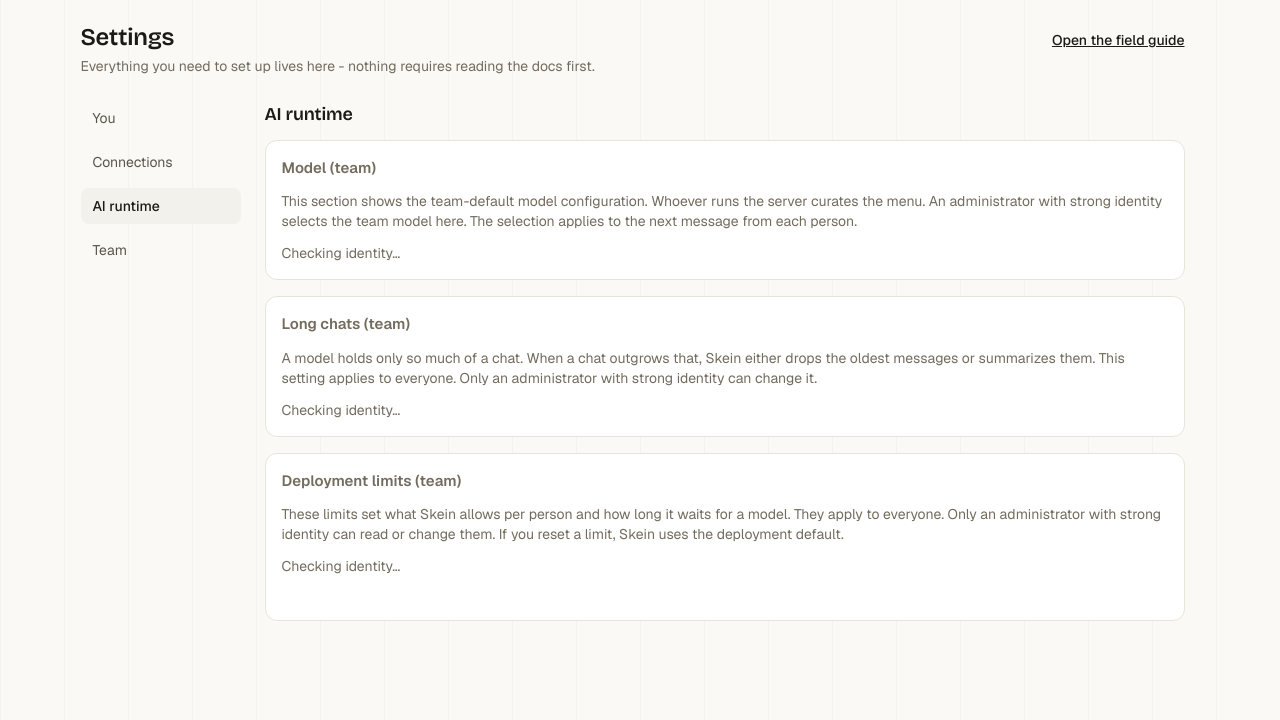
Test: the reasoning section › shows a refusal and keeps the level that is in force
Click the link "AI runtime".
click(160, 206)  # box [80,188,240,224]
(page scrolled)
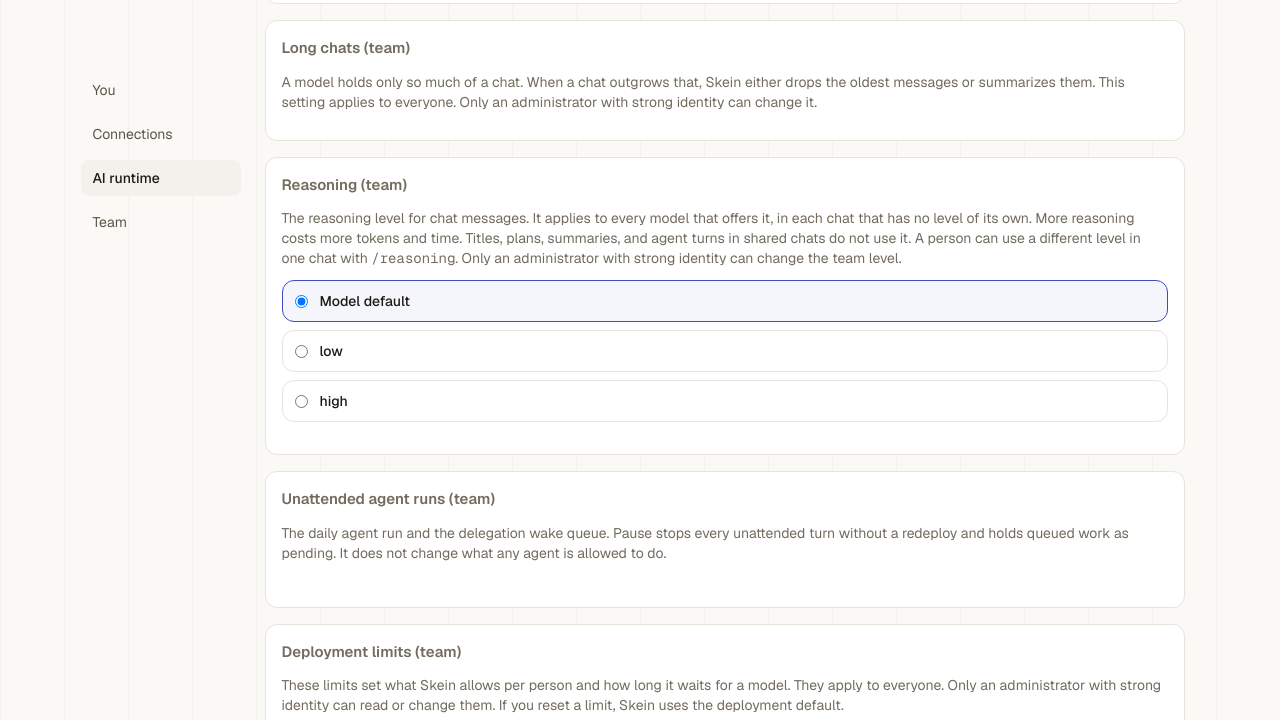
Click the radio button labelled "high".
click(301, 401)  # box [294,395,308,408]
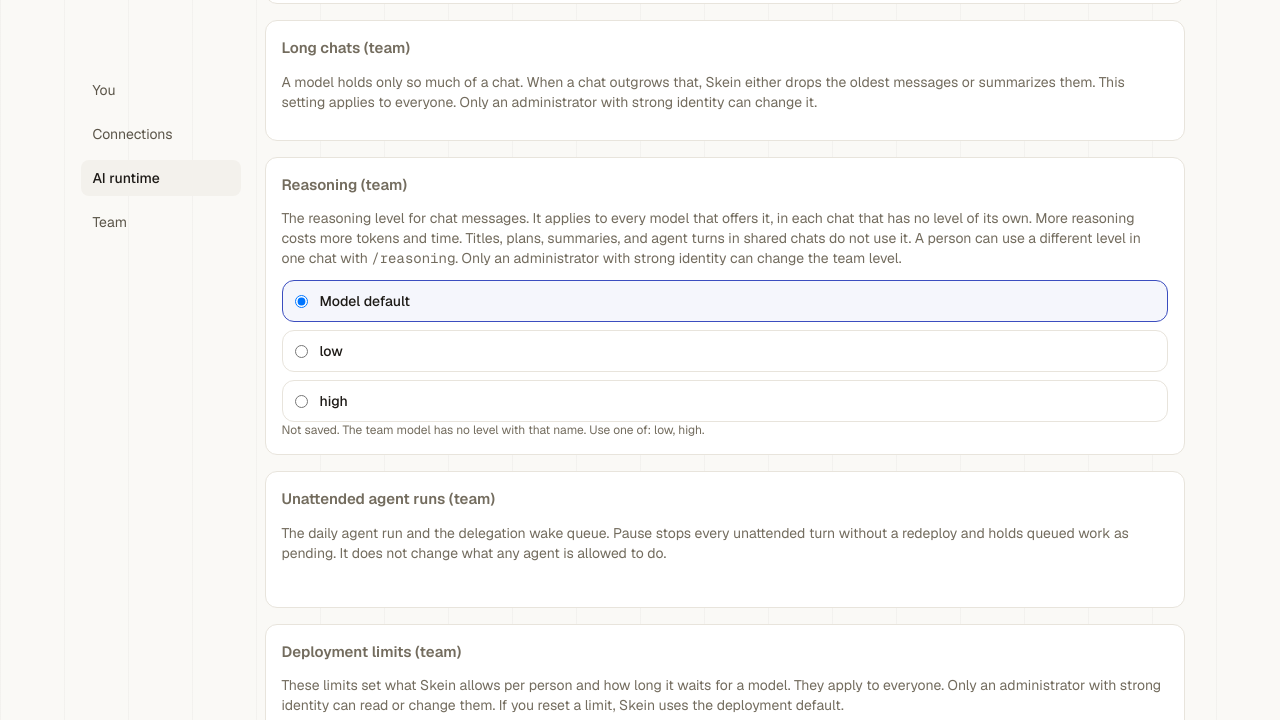
Check: the radio button labelled "Model default" is checked, box [294,295,308,308]
Check: the text "Not saved. The team model has no level with that name. Use one of: low, high." is shown, box [282,422,704,438]
